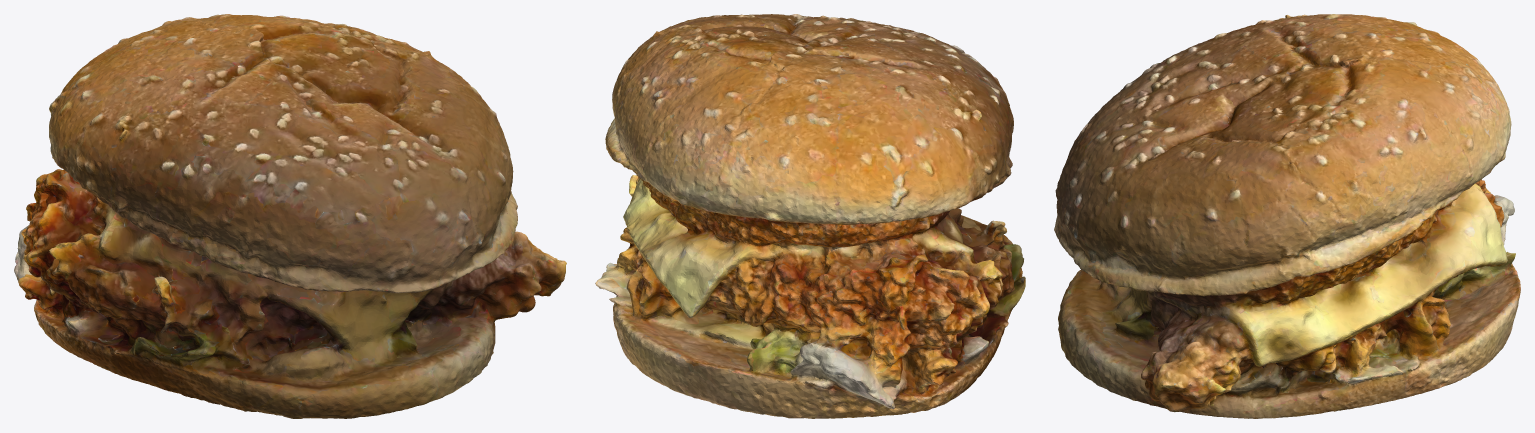
Rendered from KFC, zinger burger photogrammetry-compressed.glb.
3 views of the same model, side by side, from view 1: azimuth 30°, elevation 25°; view 2: azimuth 150°, elevation 25°; view 3: azimuth 270°, elevation 25° (orthographic). The views are drawn at different scales.
Parts seen in each view (by area): view 1: mesh_0; view 2: mesh_0; view 3: mesh_0.
Part boxes in pixels (x1,y1,x2,y2): mesh_0: (14,14,566,418); mesh_0: (595,14,1025,418); mesh_0: (1054,14,1520,418).
Bounding box in the file's own units: 0.1254 × 0.0755 × 0.115.
Materials: 1 (1 with a texture image).
